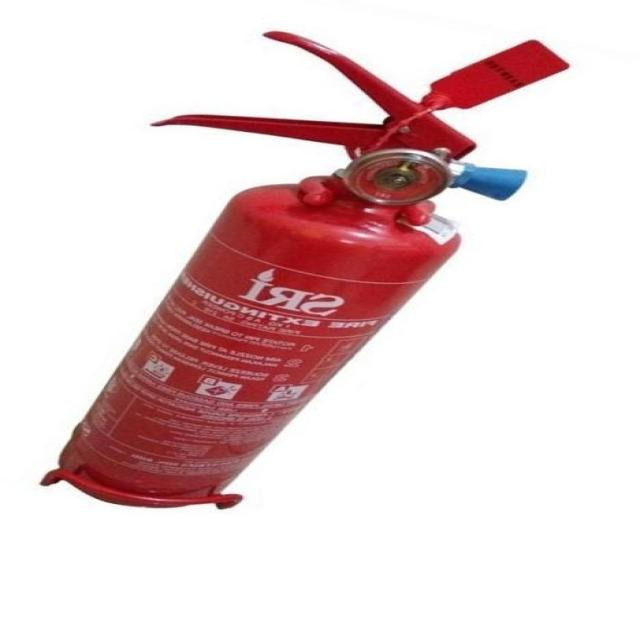fire_extinguisher: (43, 23, 581, 511)
